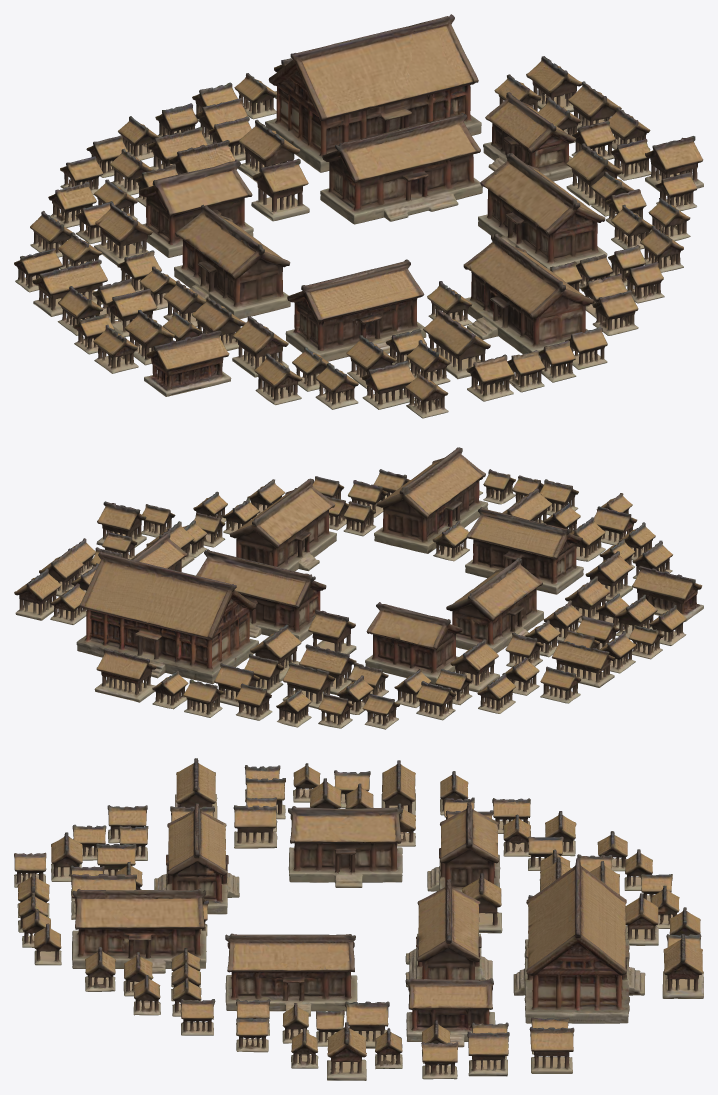
Rendered from Ancient City (East Asian).fbx.
3 views of the same model, one above another, from view 1: azimuth 30°, elevation 25°; view 2: azimuth 150°, elevation 25°; view 3: azimuth 270°, elevation 25° (orthographic). The views are drawn at different scales.
Parts seen in each view (by area): view 1: tripo_node_3abc1de7; view 2: tripo_node_3abc1de7; view 3: tripo_node_3abc1de7.
Boxes of the visible parts, x1,y1,x2,y2 form: tripo_node_3abc1de7: [14, 14, 703, 418]; tripo_node_3abc1de7: [14, 447, 703, 729]; tripo_node_3abc1de7: [14, 758, 703, 1080].
Bounding box in the file's own units: 0.9993 × 0.1553 × 1.
